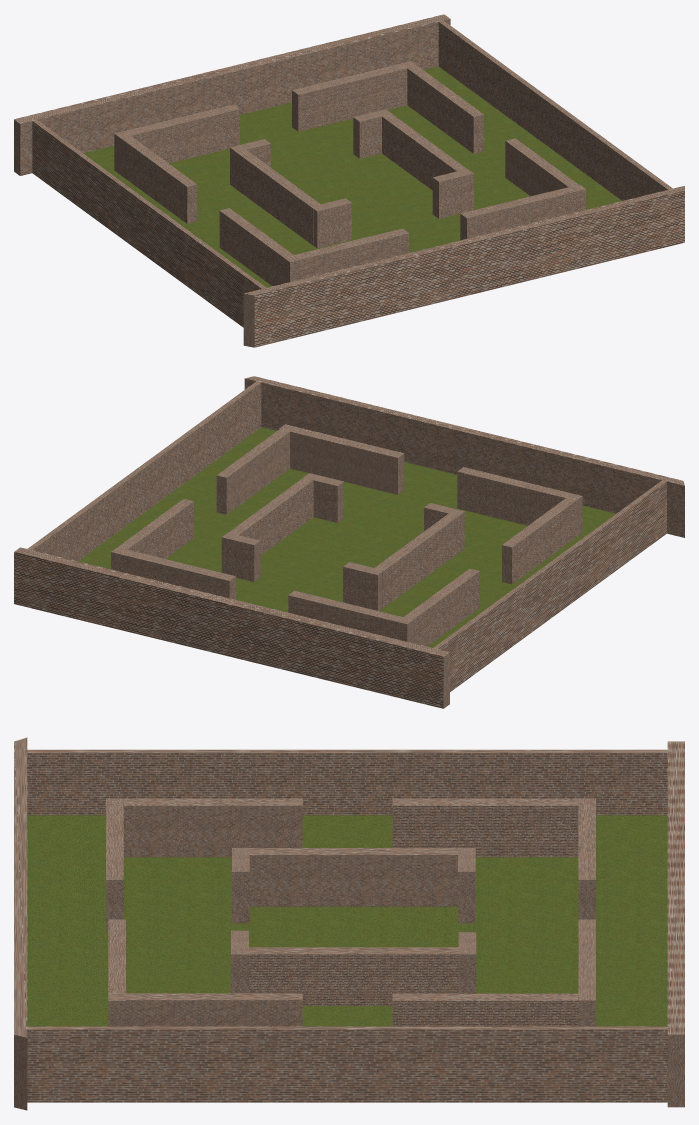
Rendered from map.obj.
The picture shows the model from 3 angles, top to bottom: view 1: azimuth 30°, elevation 25°; view 2: azimuth 150°, elevation 25°; view 3: azimuth 270°, elevation 25°; orthographic projection. The views are drawn at different scales.
Parts seen in each view (by area): view 1: Plane, Cube.003, Cube.002, Cube.001, Cube, Cube.014_Cube.015, Cube.015_Cube.016, Cube.007, Cube.012, Cube.013_Cube.014, Cube.017_Cube.018, Cube.016_Cube.017 (+7 smaller); view 2: Plane, Cube.002, Cube.003, Cube.001, Cube, Cube.017_Cube.018, Cube.016_Cube.017, Cube.007, Cube.004, Cube.005_Cube.013, Cube.012, Cube.006 (+7 smaller); view 3: Plane, Cube, Cube.001, Cube.007, Cube.006, Cube.012, Cube.004, Cube.002, Cube.013_Cube.014, Cube.005_Cube.013, Cube.003, Cube.016_Cube.017 (+7 smaller).
Part boxes in pixels (x1,y1,x2,y2): Plane: [83, 66, 621, 287]; Cube.003: [243, 186, 684, 347]; Cube.002: [14, 14, 450, 175]; Cube.001: [32, 120, 266, 327]; Cube: [438, 20, 673, 200]; Cube.014_Cube.015: [292, 61, 417, 131]; Cube.015_Cube.016: [114, 104, 239, 174]; Cube.007: [234, 148, 320, 245]; Cube.012: [120, 136, 197, 223]; Cube.013_Cube.014: [405, 63, 483, 153]; Cube.017_Cube.018: [460, 184, 585, 240]; Cube.016_Cube.017: [283, 228, 408, 283]; Plane: [78, 427, 615, 647]; Cube.002: [14, 547, 449, 708]; Cube.003: [244, 376, 684, 537]; Cube.001: [433, 480, 666, 691]; Cube: [26, 381, 261, 561]; Cube.017_Cube.018: [279, 424, 404, 494]; Cube.016_Cube.017: [457, 467, 582, 536]; Cube.007: [373, 512, 461, 608]; Cube.004: [502, 496, 580, 584]; Cube.005_Cube.013: [216, 425, 292, 514]; Cube.012: [400, 568, 479, 646]; Cube.006: [229, 476, 315, 555]; Plane: [27, 815, 667, 1026]; Cube: [27, 1026, 670, 1102]; Cube.001: [25, 749, 670, 815]; Cube.007: [243, 848, 460, 906]; Cube.006: [238, 947, 467, 1005]; Cube.012: [392, 798, 586, 857]; Cube.004: [108, 798, 302, 857]; Cube.002: [667, 741, 684, 1107]; Cube.013_Cube.014: [392, 993, 586, 1026]; Cube.005_Cube.013: [108, 993, 302, 1026]; Cube.003: [14, 737, 27, 1110]; Cube.016_Cube.017: [106, 798, 123, 931].
Bounding box in the file's own units: 17.64 × 2 × 16.67.
